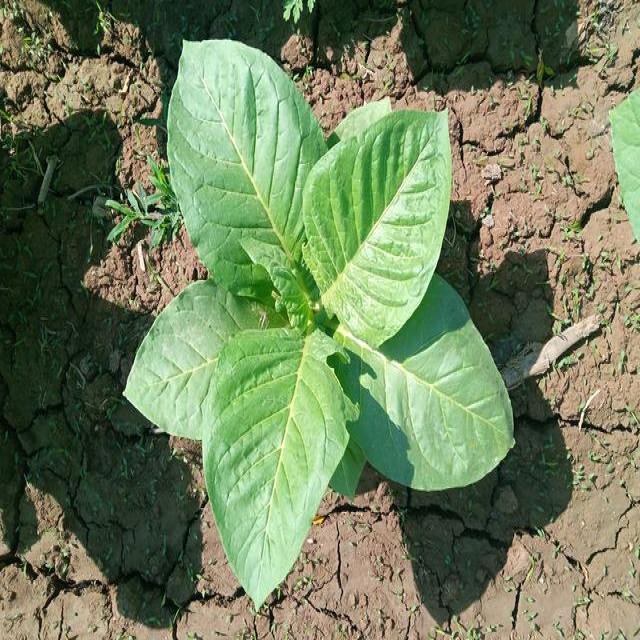crop: (125, 27, 518, 585)
